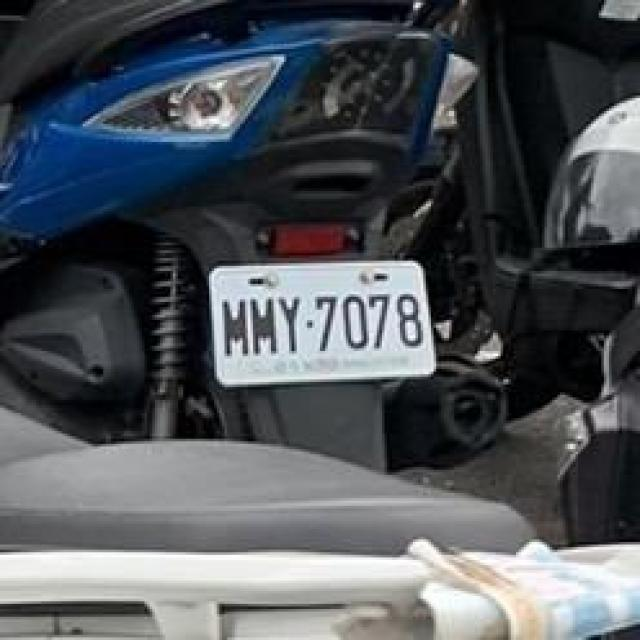W: (207, 259, 440, 384)
